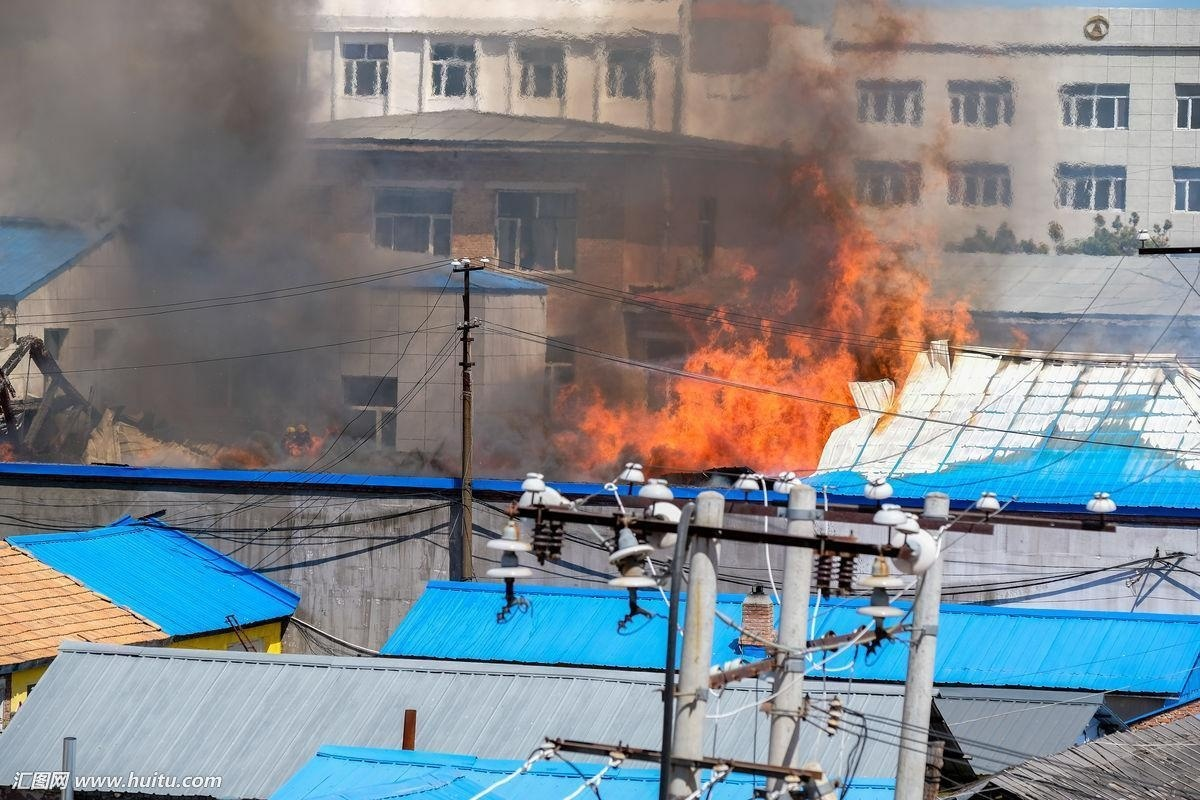fire: (565, 203, 967, 482)
